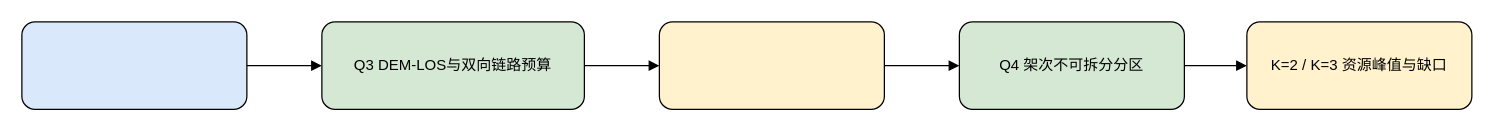
This 1494x131 diagram has some shape labels left out. Here are the shapes that lost their labels. From the top down, the centre of each, then its label:
(x=134, y=65): 题面与附件 Q2运输基线
(x=771, y=65): 连续通信审计 直连/中继/中断
